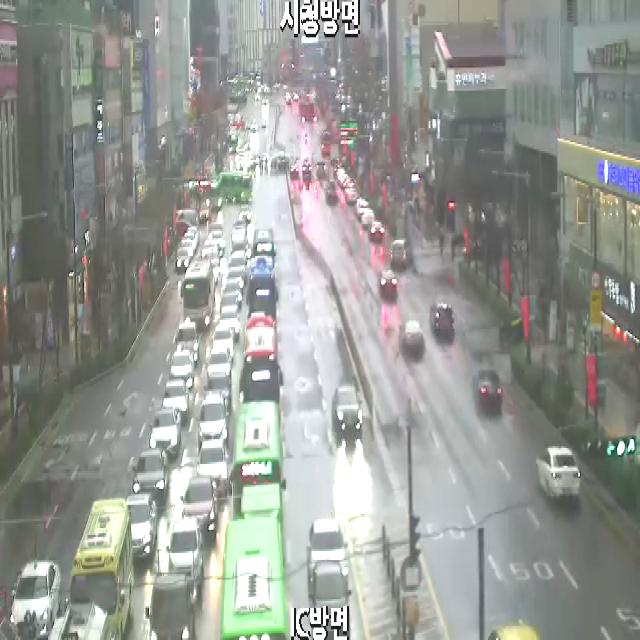Bus: (70, 498, 132, 640), (220, 518, 288, 640), (230, 401, 286, 518), (240, 316, 283, 405), (180, 259, 214, 330), (246, 254, 278, 321), (218, 172, 252, 202), (251, 229, 276, 268)
Car: (11, 559, 62, 639), (144, 573, 194, 640), (310, 562, 352, 640), (307, 519, 348, 596), (166, 518, 203, 584), (48, 600, 109, 640), (536, 446, 580, 501), (180, 476, 218, 537), (132, 449, 169, 505), (196, 392, 229, 451), (126, 494, 157, 556), (197, 440, 230, 494), (331, 385, 363, 440), (149, 409, 181, 456), (473, 370, 503, 410), (203, 371, 230, 412), (162, 380, 189, 420), (175, 323, 199, 364), (207, 348, 231, 387), (430, 302, 455, 336), (170, 352, 194, 387), (401, 321, 424, 352), (212, 329, 234, 361), (219, 307, 240, 338), (390, 240, 411, 270), (228, 250, 247, 282), (379, 270, 397, 298), (222, 284, 242, 308), (226, 272, 244, 294), (210, 232, 226, 255), (368, 222, 386, 242), (202, 240, 219, 259), (355, 198, 369, 219), (326, 180, 338, 204), (176, 248, 188, 272), (361, 210, 375, 229), (180, 239, 193, 259), (187, 226, 200, 246), (183, 233, 196, 251), (239, 205, 251, 224), (346, 188, 360, 204), (200, 202, 211, 222), (211, 262, 221, 282), (344, 178, 356, 192), (316, 161, 326, 176), (333, 162, 342, 178), (302, 162, 312, 176), (340, 174, 350, 188), (290, 164, 299, 178), (338, 169, 346, 184)
